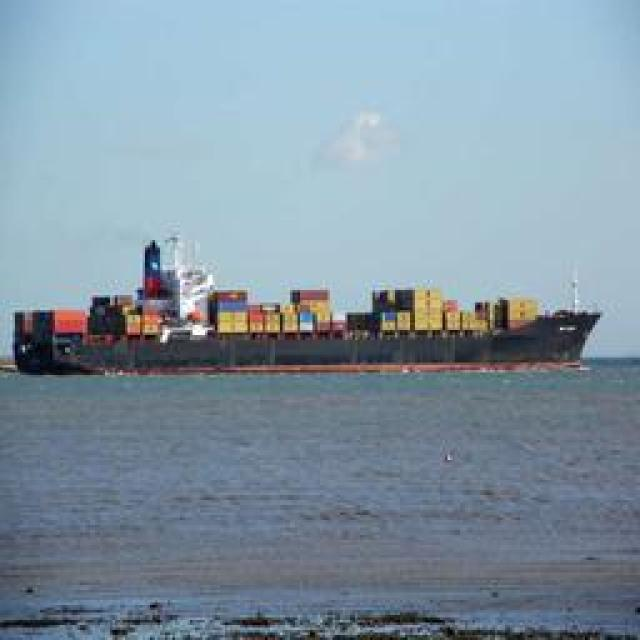CIV_Ship: (11, 252, 599, 378)
